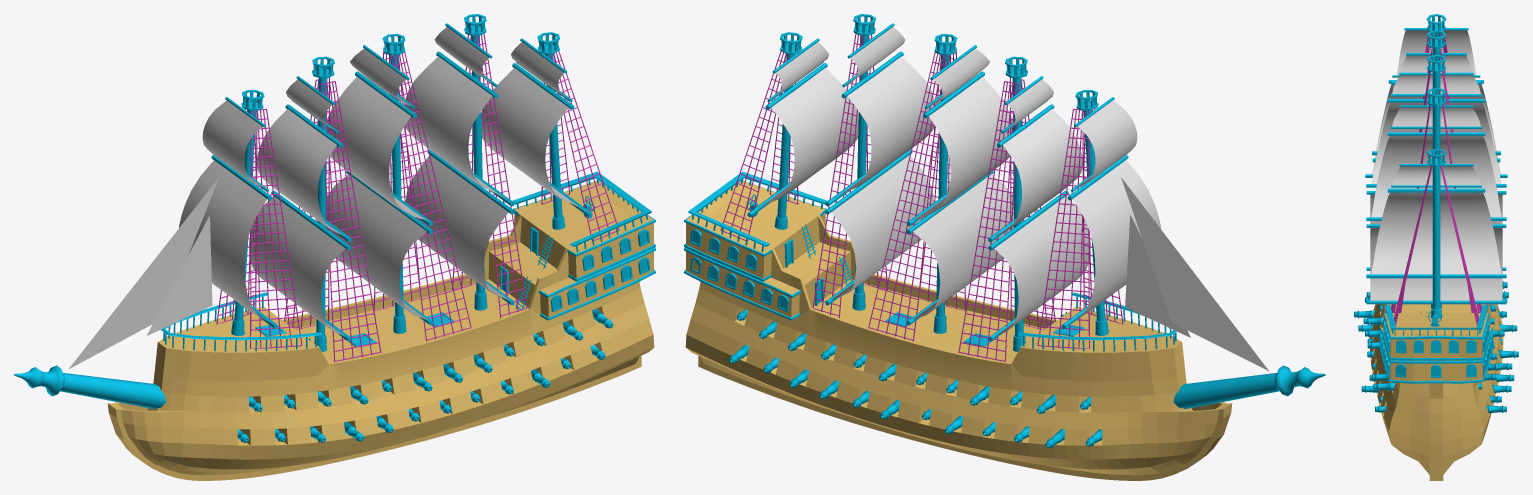
Rendered from Battleship.fbx.
3 views of the same model, side by side, from view 1: azimuth 30°, elevation 25°; view 2: azimuth 150°, elevation 25°; view 3: azimuth 270°, elevation 25° (orthographic). The views are drawn at different scales.
Parts seen in each view (by area): view 1: polySurface182, pasted__SHROUD10; view 2: polySurface182, pasted__SHROUD10; view 3: polySurface182, pasted__SHROUD10.
Boxes of the visible parts, x1,y1,x2,y2 form: polySurface182: [14, 14, 655, 480]; pasted__SHROUD10: [216, 33, 619, 361]; polySurface182: [684, 14, 1325, 480]; pasted__SHROUD10: [720, 33, 1123, 361]; polySurface182: [1354, 14, 1518, 480]; pasted__SHROUD10: [1391, 33, 1481, 325].
Bounding box in the file's own units: 26.79 × 16.69 × 7.31.
